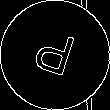P_S: (30, 25, 80, 85)
